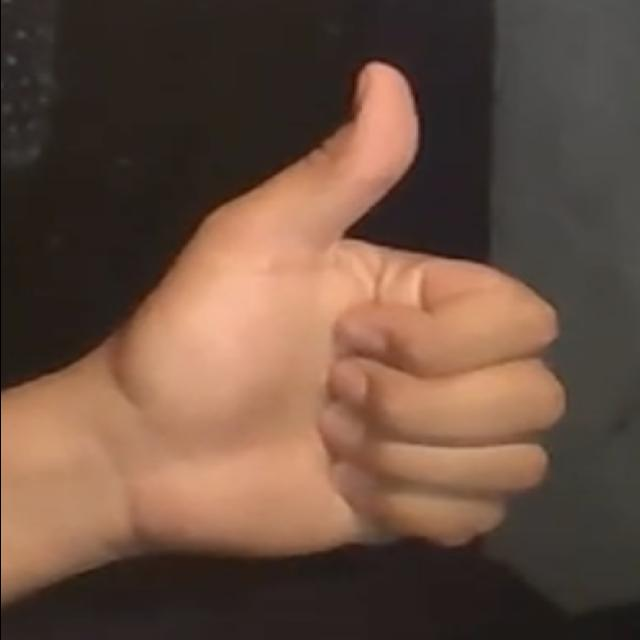A: (91, 57, 574, 571)
